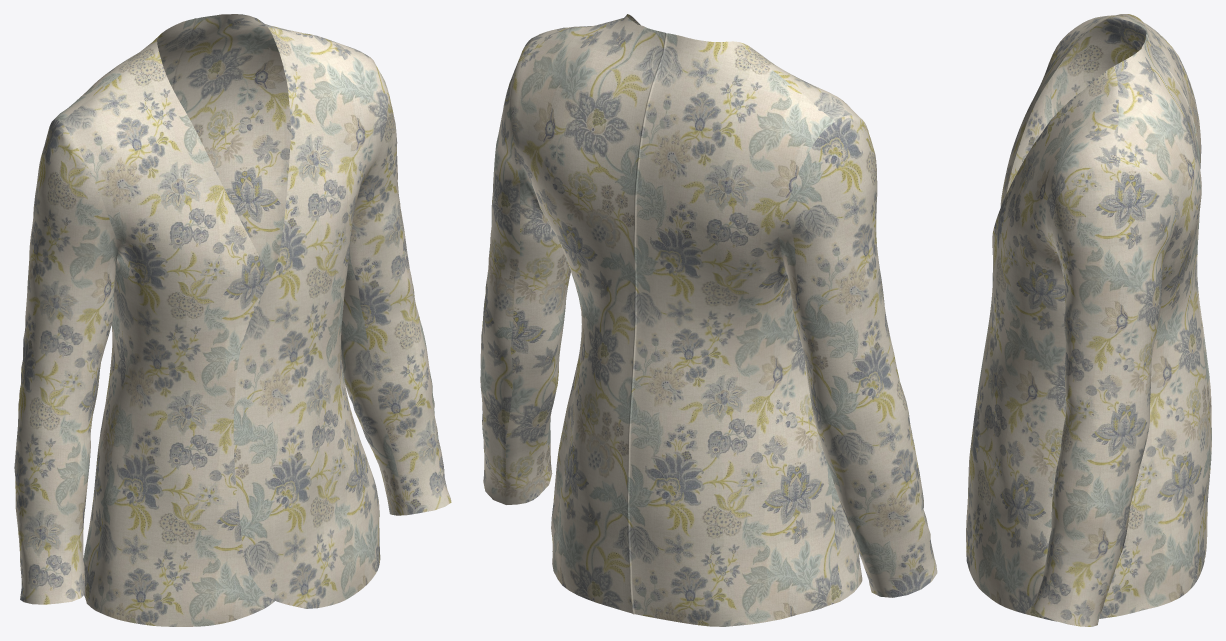
File: full_lining_no_vent.glb
3 renders of one model, left to right at view 1: azimuth 30°, elevation 25°; view 2: azimuth 150°, elevation 25°; view 3: azimuth 270°, elevation 25°, orthographic. The views are drawn at different scales.
Visible parts, largest first — view 1: No Vents; view 2: No Vents; view 3: No Vents.
Part boxes in pixels (box(x1,y1,x2,y2)): No Vents: box(14, 14, 451, 626); No Vents: box(480, 14, 937, 626); No Vents: box(966, 14, 1211, 626).
Size of the model in its own units: 60.44 by 73.27 by 31.01.
Materials: 1 (1 with a texture image).
